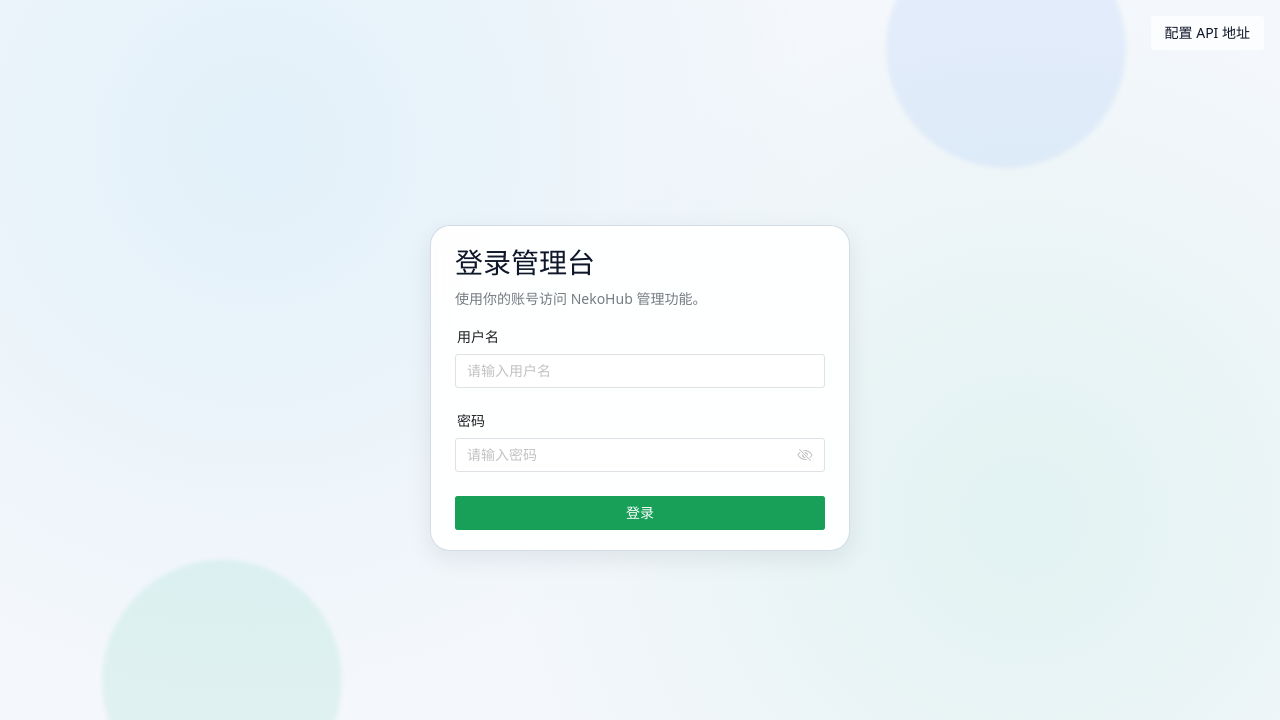
Test: LoginPage › submits the form and displays server errors beside the login action
Step 1. Type "preview" into the field with placeholder "请输入用户名" → [640, 371], box [467,354,813,388]
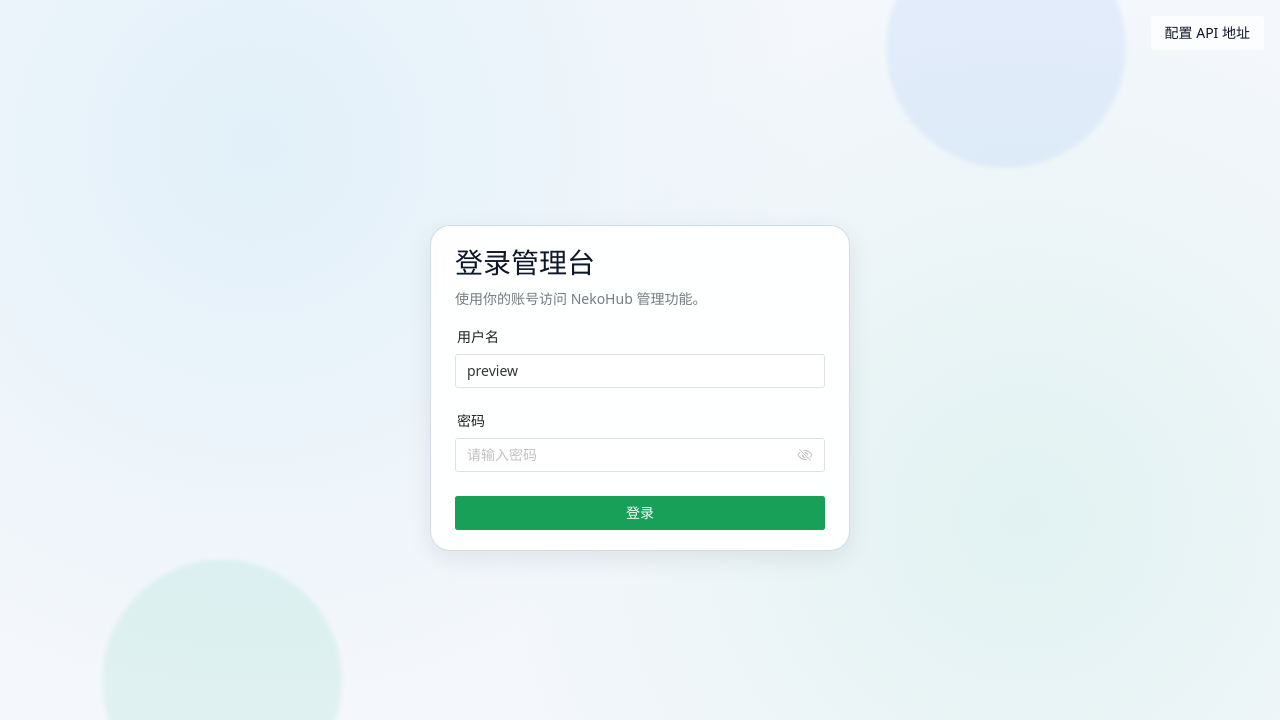
Step 2. Type "preview-password" into the password field with placeholder "请输入密码" → [630, 455], box [467,438,793,472]
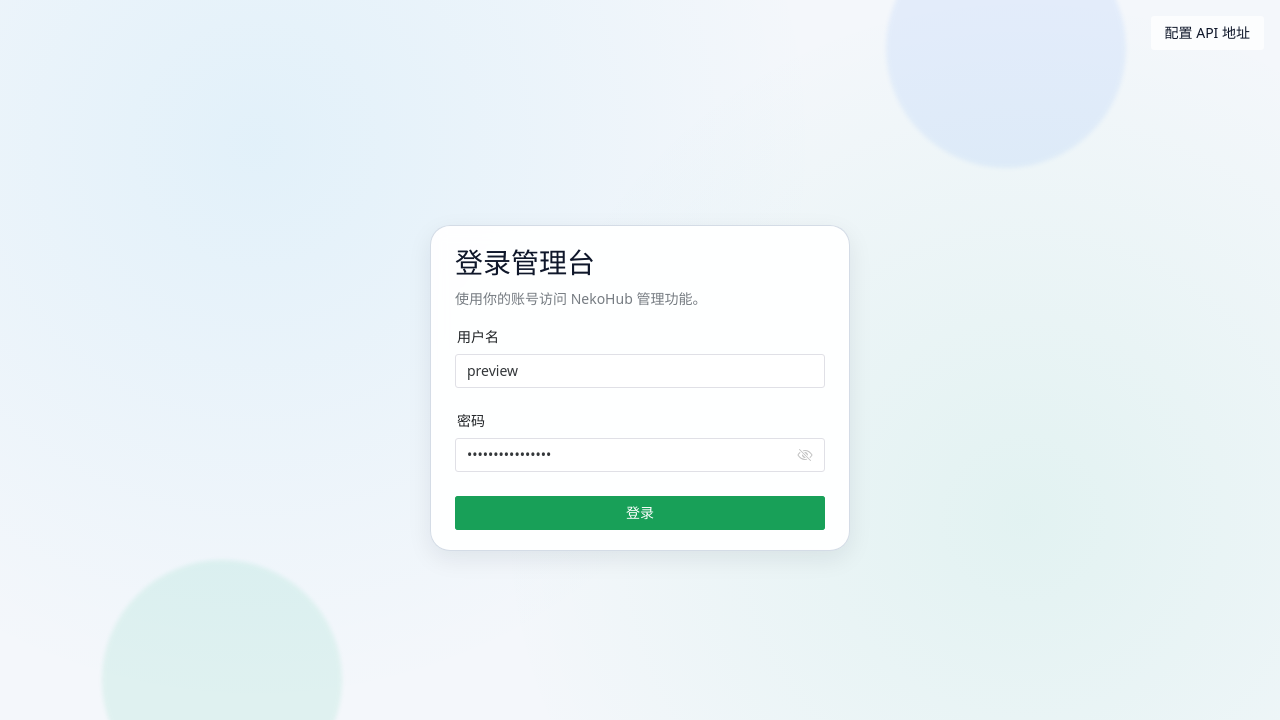
Step 3. Submit the form, box [455,328,825,530]
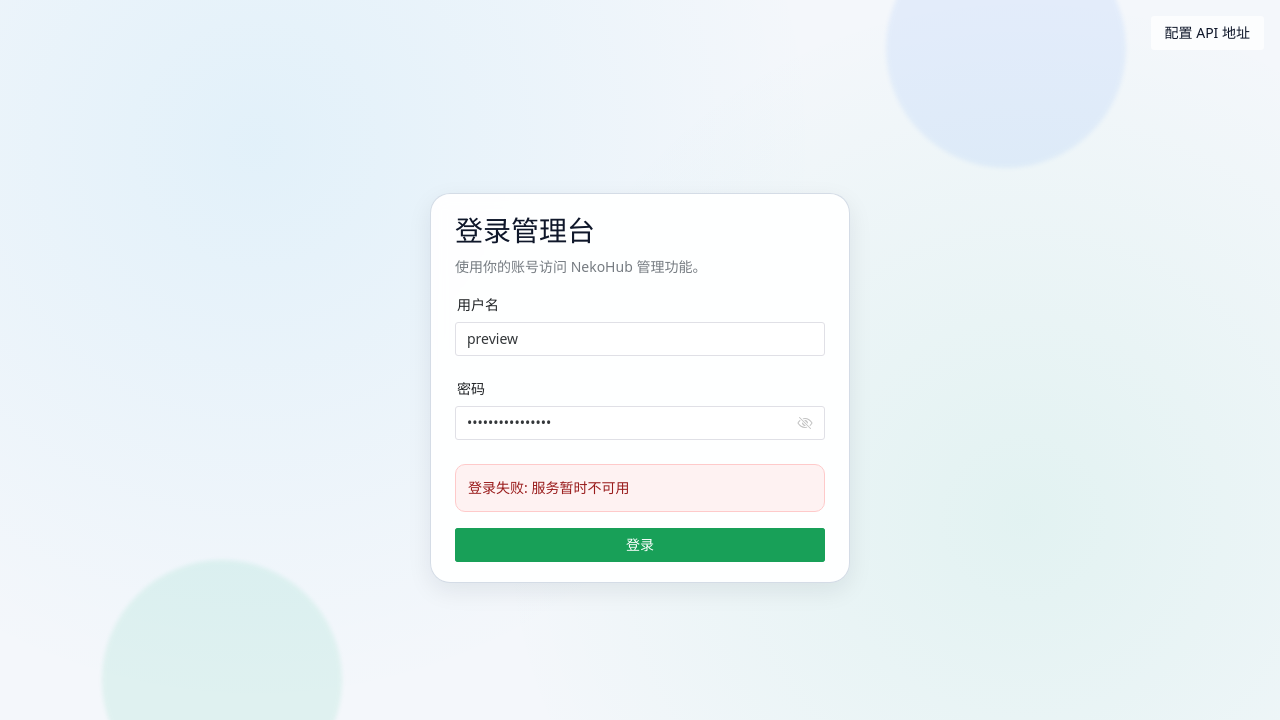
expect the message with class "login-error" shows "服务暂时不可用": met, box [468,478,629,497]
